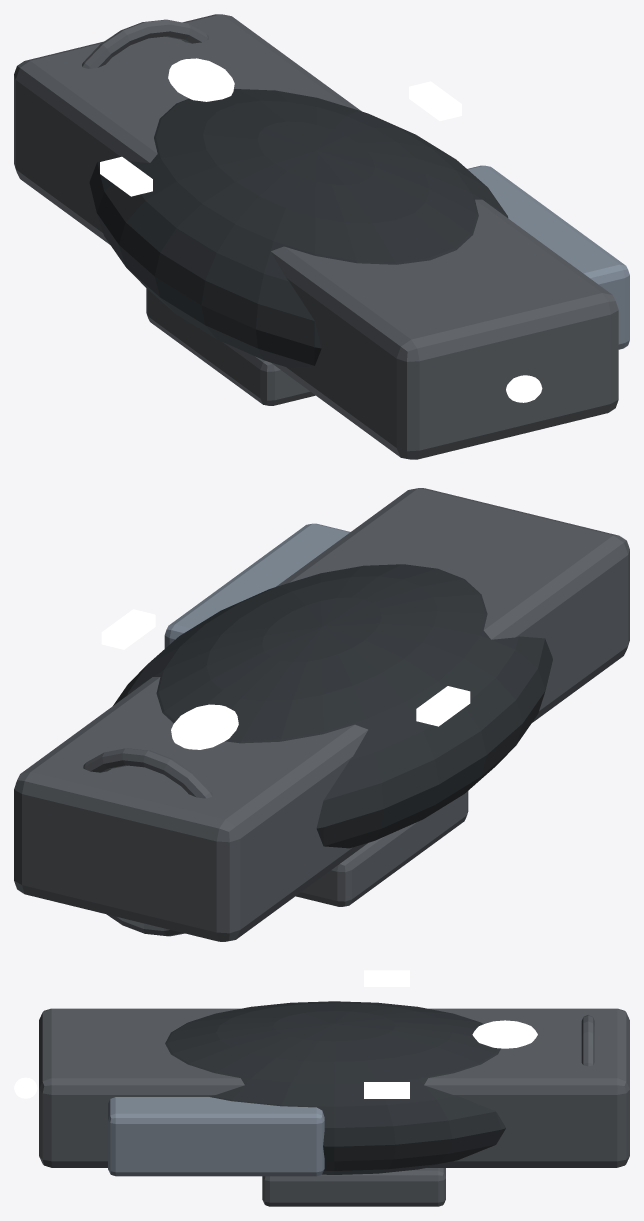
The picture shows the model from 3 angles, top to bottom: view 1: azimuth 30°, elevation 25°; view 2: azimuth 150°, elevation 25°; view 3: azimuth 270°, elevation 25°; orthographic projection. The views are drawn at different scales.
Parts seen in each view (by area): view 1: RIMWARD_HULL, RIMWARD_EMISSIVE, RIMWARD_ENGINE_GLOW; view 2: RIMWARD_HULL, RIMWARD_EMISSIVE; view 3: RIMWARD_HULL, RIMWARD_EMISSIVE, RIMWARD_ENGINE_GLOW.
Part boxes in pixels (x1,y1,x2,y2): RIMWARD_HULL: (14,14,629,459); RIMWARD_EMISSIVE: (100,58,461,196); RIMWARD_ENGINE_GLOW: (506,375,542,402); RIMWARD_HULL: (14,488,629,941); RIMWARD_EMISSIVE: (101,609,470,749); RIMWARD_HULL: (39,1001,629,1206); RIMWARD_EMISSIVE: (364,970,537,1098); RIMWARD_ENGINE_GLOW: (14,1077,37,1098).
Size of the model in its own units: 4.75 by 2.82 by 10.32.
